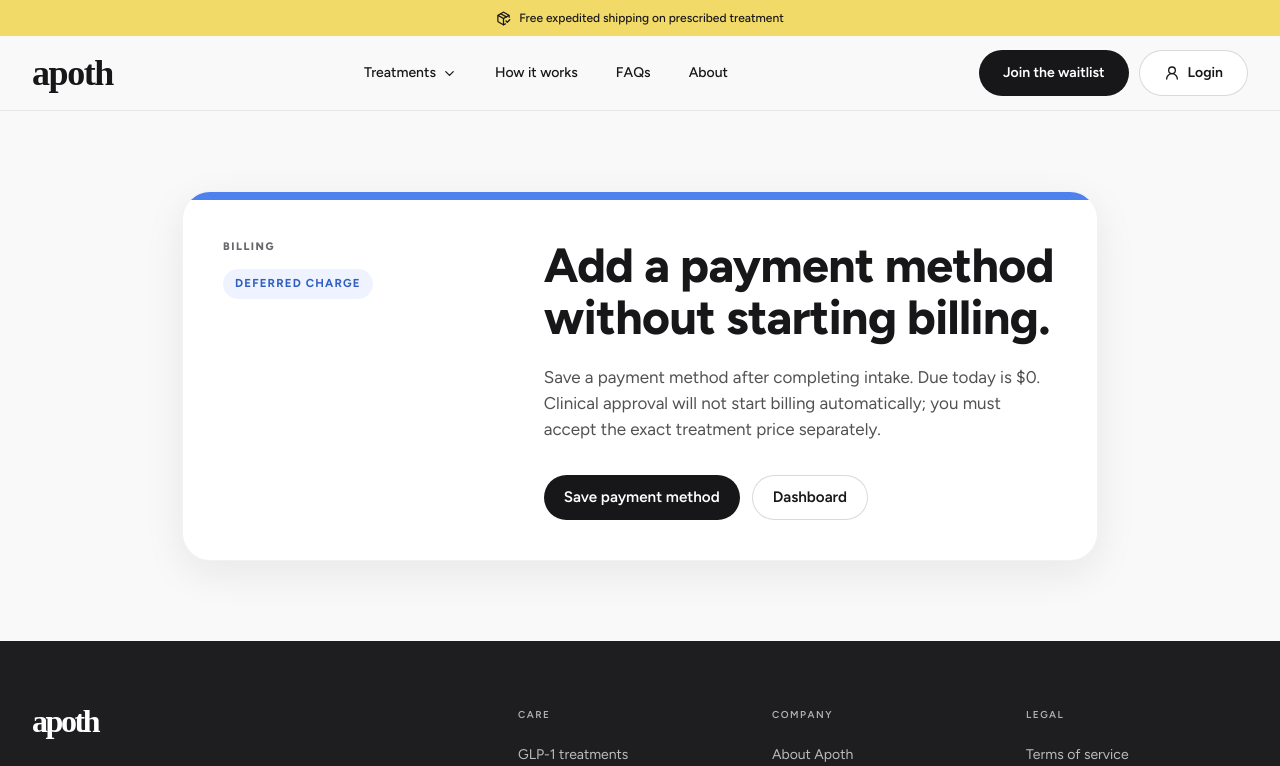
Test case: BillingSetupClient › shows a distinct declined support path without creating active-billing copy
Click the button "Save payment method" at (642, 498), box [544,475,740,520]
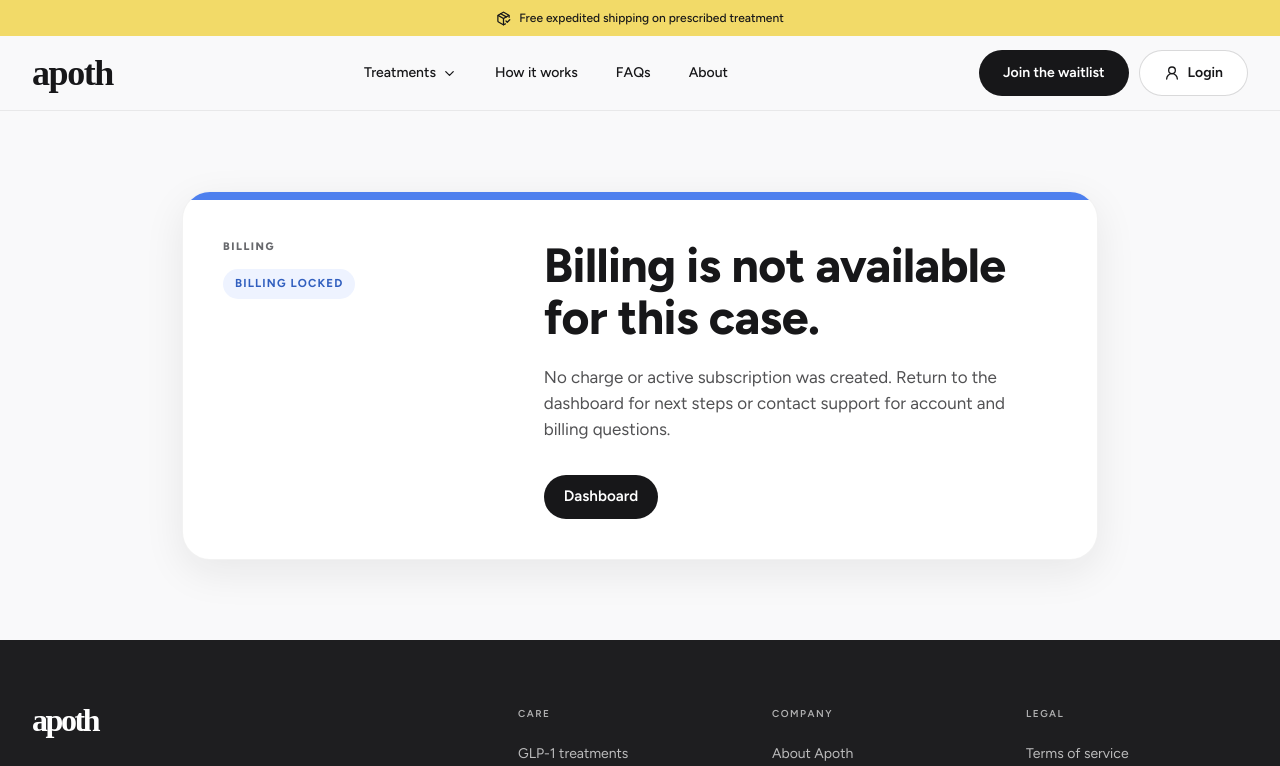
Result: the heading "Billing is not available for this case." is shown at [544,240,1057,344]
Result: the text "No charge or active subscription was created" is shown at [544,367,1005,439]
